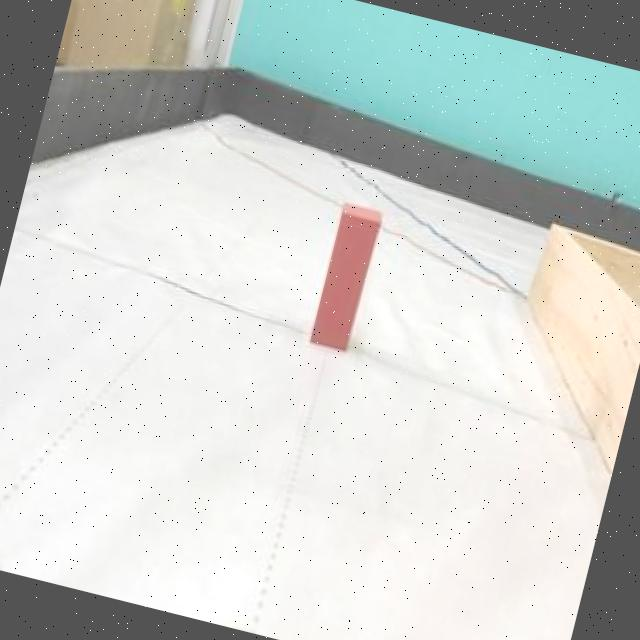redbox: (306, 202, 382, 352)
